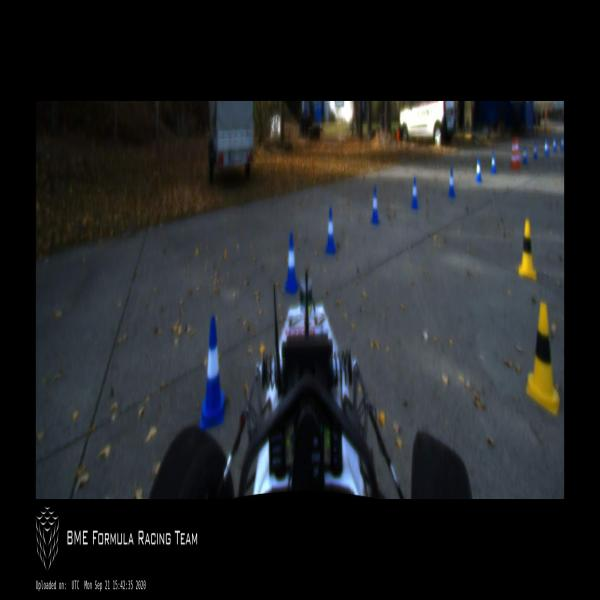blue_cone: (200, 316, 225, 428), (285, 232, 299, 296), (325, 206, 337, 256), (371, 187, 380, 225), (411, 176, 419, 211), (448, 166, 455, 196), (474, 156, 482, 182), (522, 146, 528, 165), (491, 152, 496, 174), (544, 138, 550, 156), (533, 140, 538, 160), (553, 136, 556, 152), (561, 136, 564, 151)
large_orange_cone: (515, 134, 521, 169), (510, 136, 516, 170)
yellow_cone: (526, 301, 560, 417), (518, 218, 537, 282)
